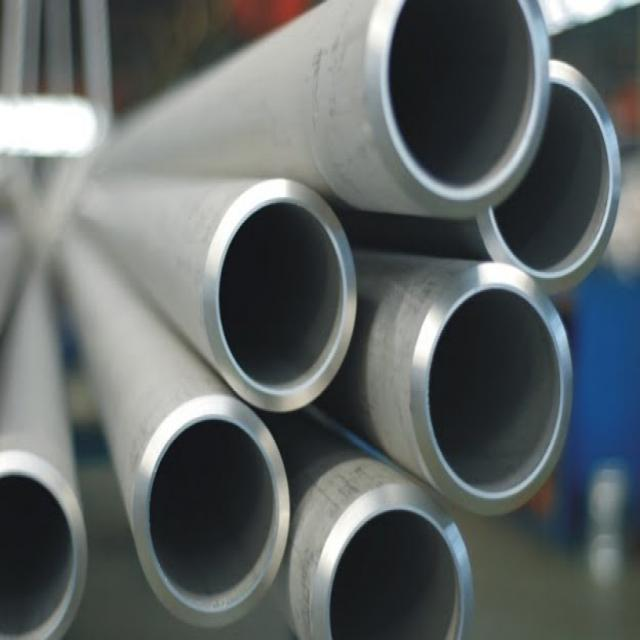pipe: (408, 266, 577, 507), (360, 0, 553, 207), (196, 174, 358, 416), (134, 398, 293, 627), (478, 60, 622, 293), (311, 480, 471, 640), (0, 452, 89, 640)
